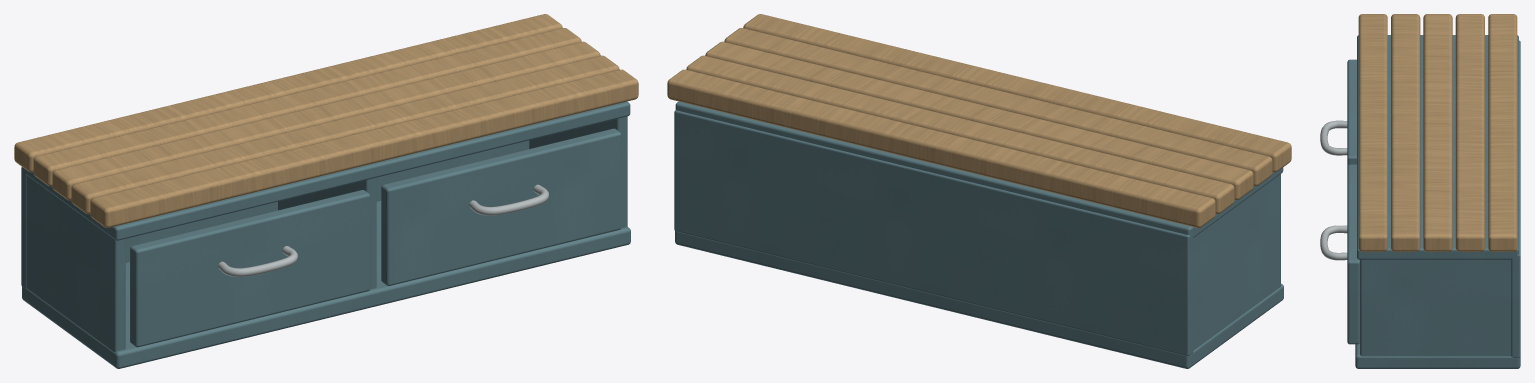
File: gorgehold-survivor-gallery-and-operations-dry-storage--7e4d3602__32859.glb
The picture shows the model from 3 angles, left to right: view 1: azimuth 30°, elevation 25°; view 2: azimuth 150°, elevation 25°; view 3: azimuth 270°, elevation 25°; orthographic projection. The views are drawn at different scales.
Parts seen in each view (by area): view 1: dry-storage-locker-bench; view 2: dry-storage-locker-bench; view 3: dry-storage-locker-bench.
Boxes of the visible parts, <box> form: dry-storage-locker-bench: <box>14,14,638,368</box>; dry-storage-locker-bench: <box>667,14,1291,368</box>; dry-storage-locker-bench: <box>1320,14,1520,368</box>.
Size of the model in its own units: 1.66 by 0.48 by 0.6301.
3 materials, 3 textured.
